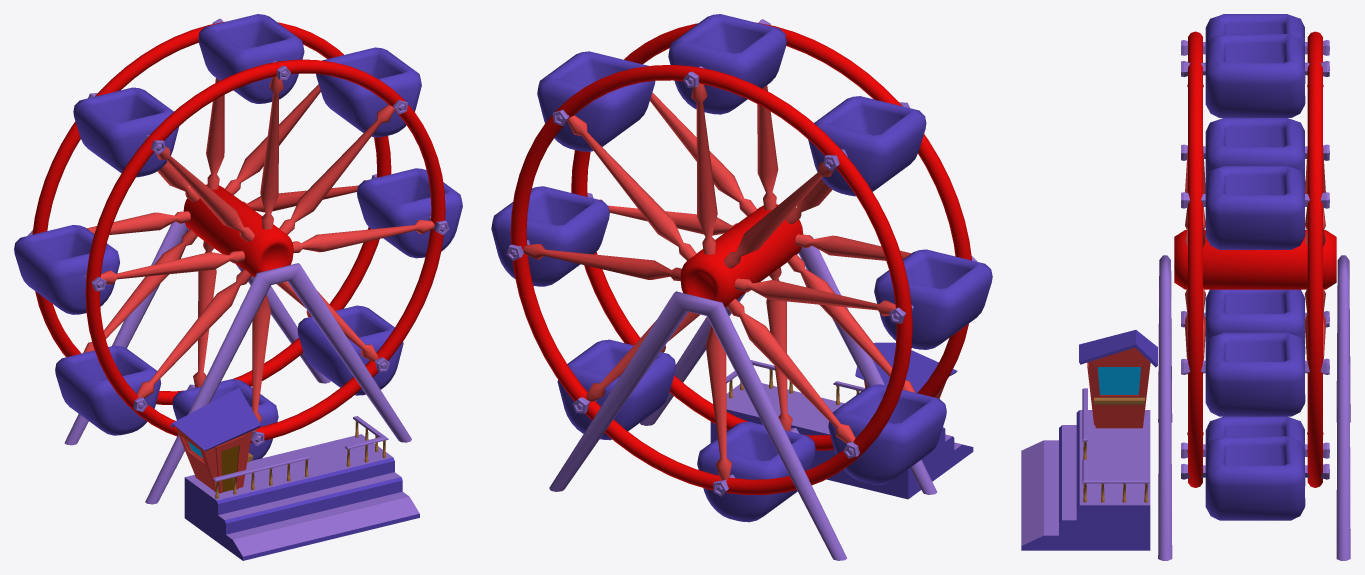
The model's file is Wheel.fbx.
The picture shows the model from 3 angles, left to right: view 1: azimuth 30°, elevation 25°; view 2: azimuth 150°, elevation 25°; view 3: azimuth 270°, elevation 25°; orthographic projection. The views are drawn at different scales.
Visible parts, largest first — view 1: Wheel; view 2: Wheel; view 3: Wheel.
Boxes of the visible parts, bbox=[...] form: Wheel: bbox=[14, 14, 462, 560]; Wheel: bbox=[491, 14, 992, 560]; Wheel: bbox=[1021, 14, 1350, 560].
Bounding box in the file's own units: 43.25 × 42.16 × 26.86.
